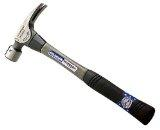hammer: (2, 1, 155, 125)
